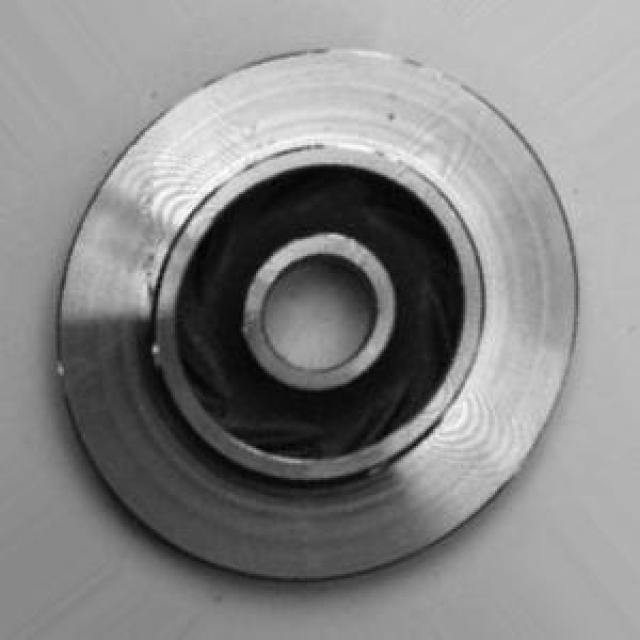Defect: (126, 247, 158, 308)
